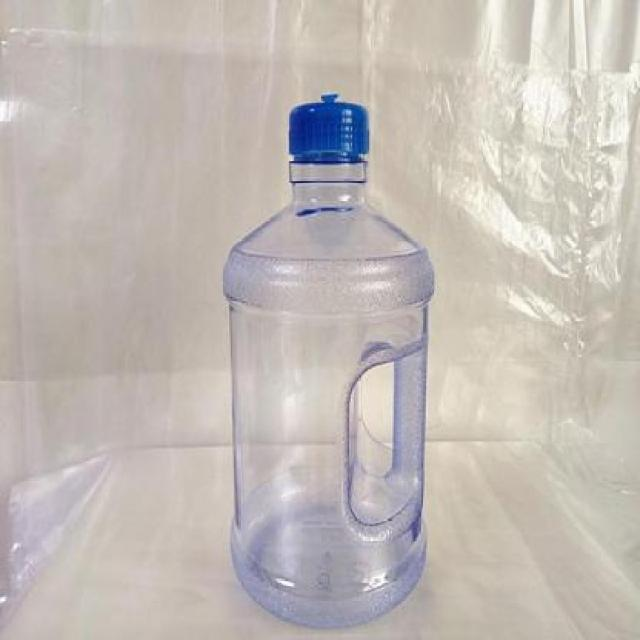coolerbottle: (218, 94, 440, 631)
